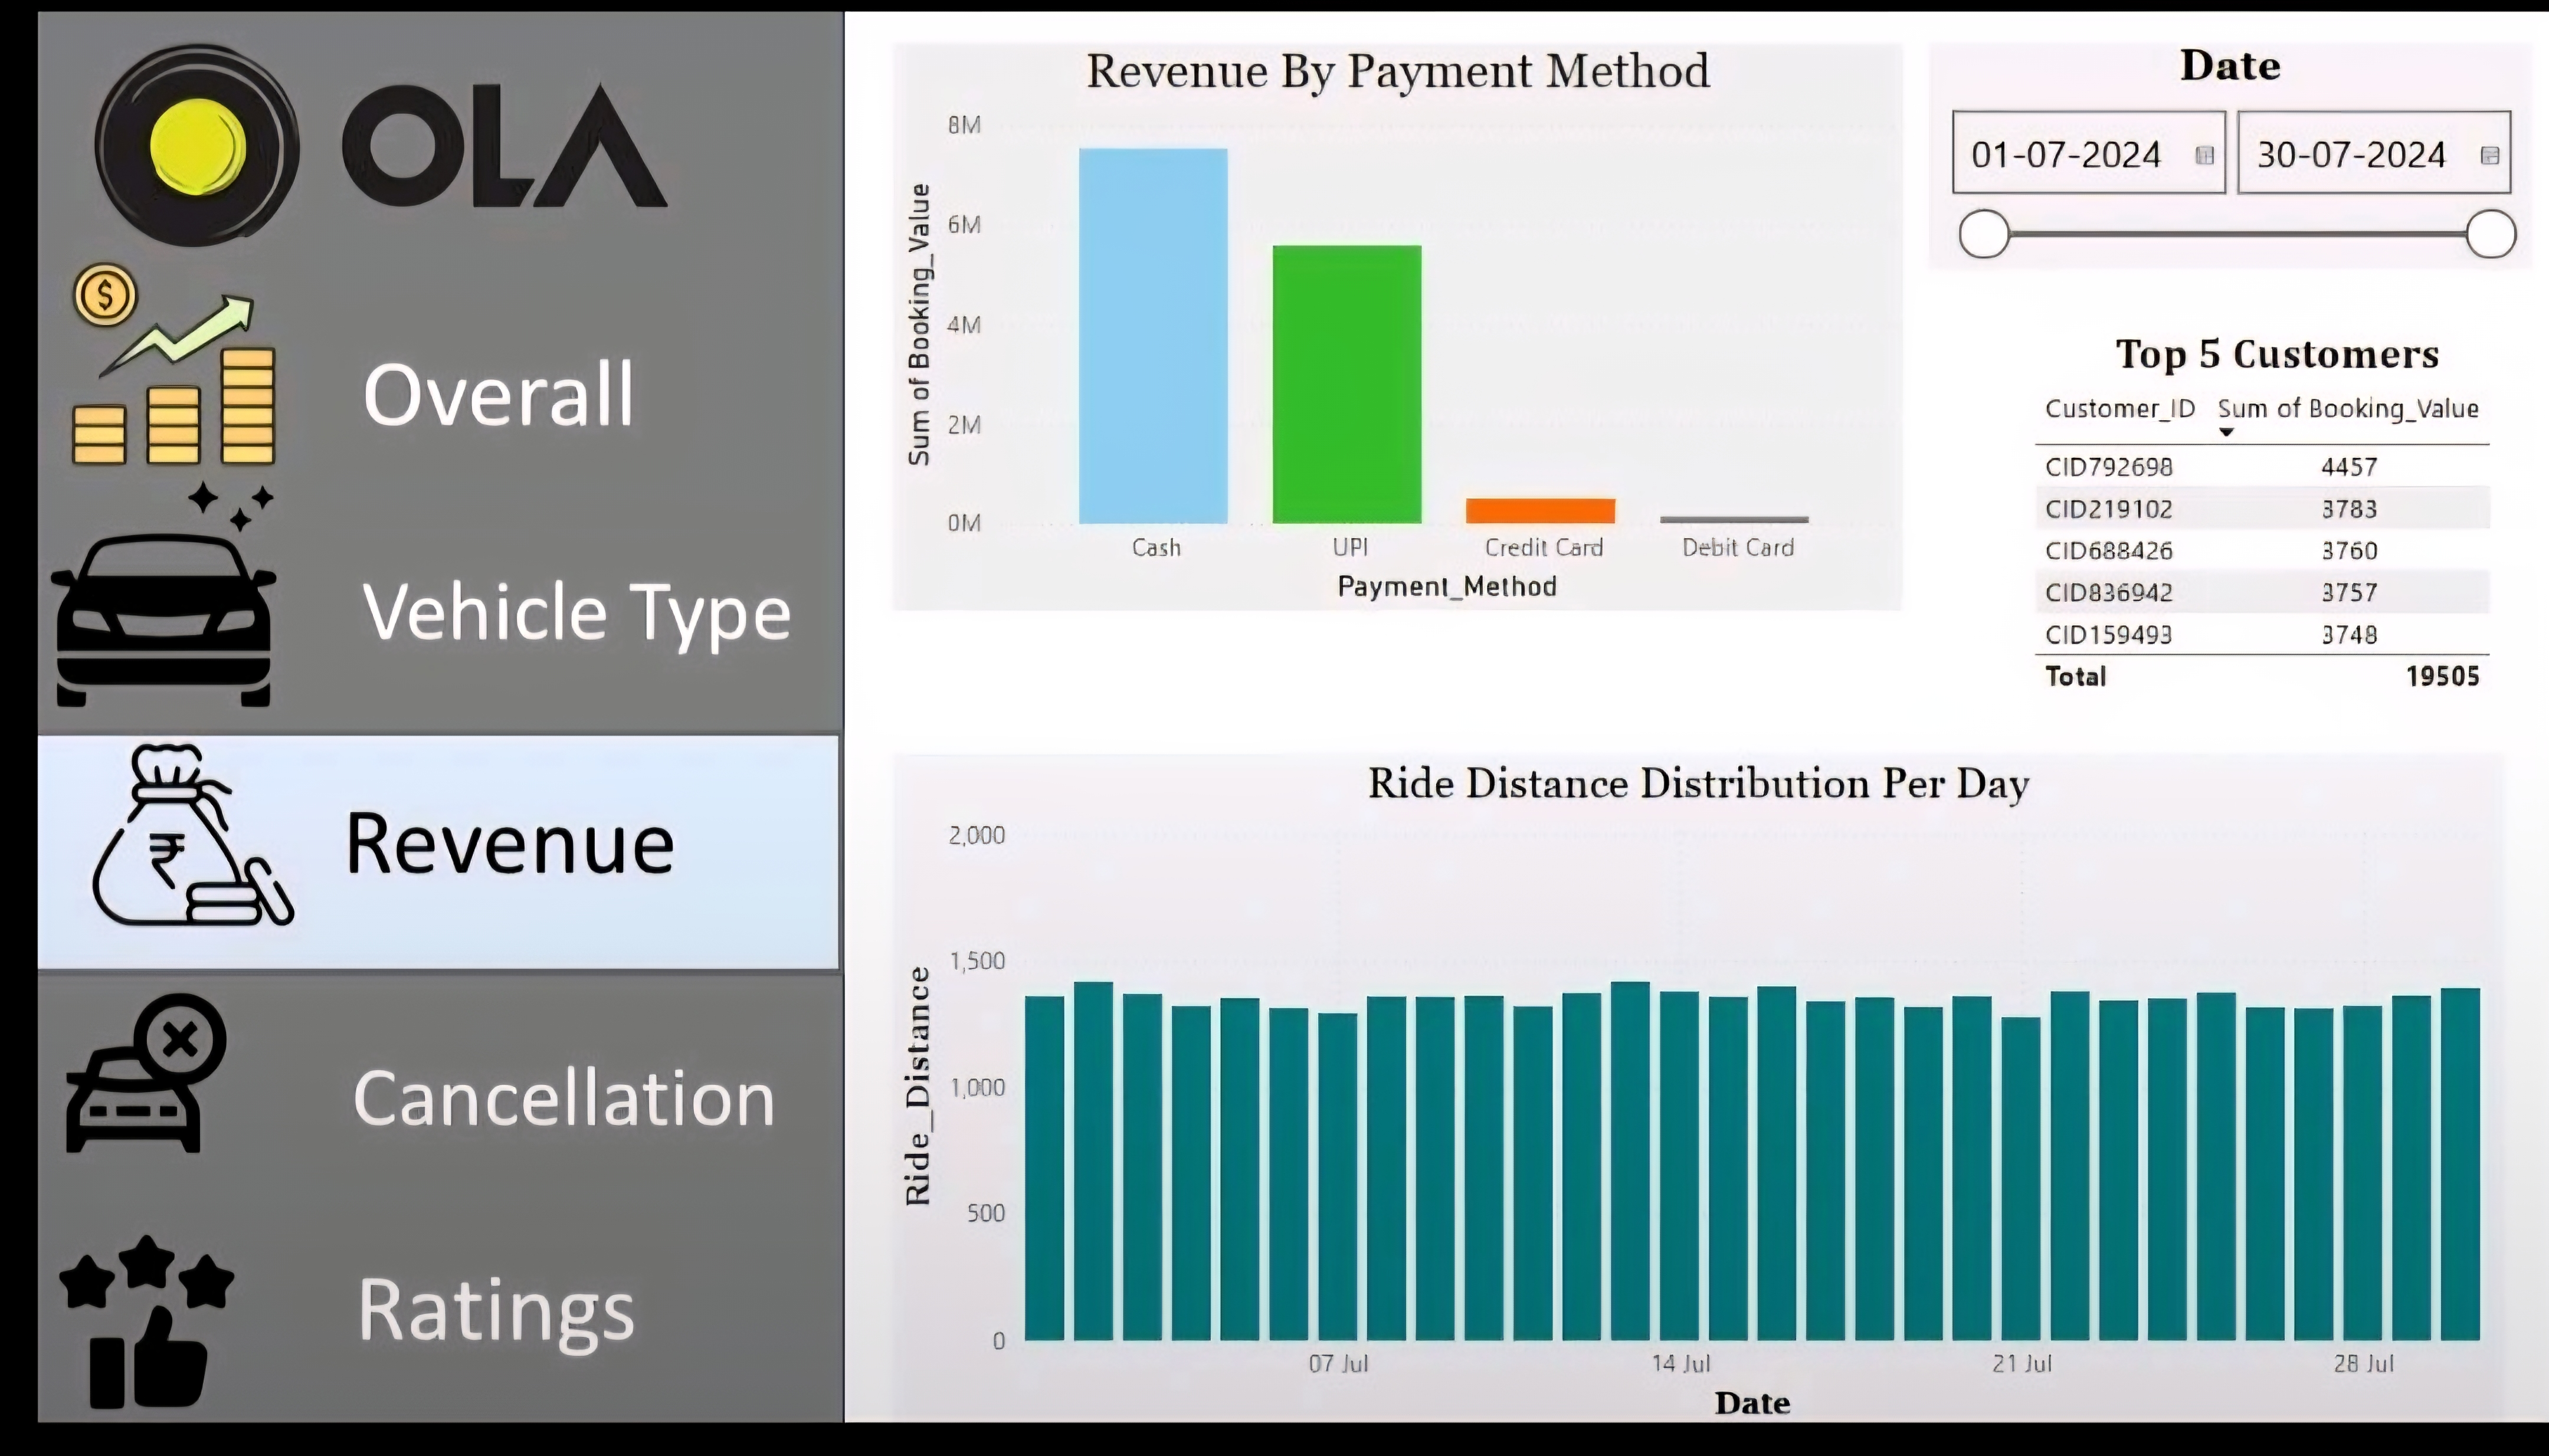

The dashboard page shown, as its layout file describes it:
{"tool":"powerbi","page":{"name":"Revenue","canvas":[1280,720],"ordinal":2},"visuals":[{"type":"actionButton","box":[0,359.5,420.9,122.7],"z":0},{"type":"actionButton","box":[0,240.5,417.2,119],"z":1000},{"type":"actionButton","box":[0,489.6,420.9,103.1],"z":2000},{"type":"actionButton","box":[0,609.8,420.9,100.6],"z":3000},{"type":"actionButton","box":[0,121.5,417.2,110.4],"z":4000},{"type":"columnChart","title":"Revenue By Payment Method","fields":{"Category":["July.Payment_Method"],"Y":["Sum(July.Booking_Value)"]},"box":[445.4,16,505.5,284.7],"z":5000},{"type":"columnChart","title":"Ride Distance Distribution Per Day","fields":{"Y":["Sum(July.Ride_Distance)"],"Category":["July.Date"]},"box":[445.4,371.8,806.1,338.7],"z":6000},{"type":"slicer","title":"Date","fields":{"Values":["July.Date"]},"box":[962,16,303.1,114.1],"z":7000},{"type":"tableEx","title":"Top 5 Customers","fields":{"Values":["July.Customer_ID","Sum(July.Booking_Value)"]},"box":[1007.4,158.3,272.4,201.2],"z":8000}]}

Visuals, with their boxes in screenshot pixels (x1, y1, x2, y2), scaled from the page's 1280x720 canvas onto the 2549x1456 screenshot:
actionButton: detection(0, 727, 838, 975)
actionButton: detection(0, 486, 831, 727)
actionButton: detection(0, 990, 838, 1199)
actionButton: detection(0, 1233, 838, 1437)
actionButton: detection(0, 245, 831, 469)
"Revenue By Payment Method" columnChart: detection(887, 32, 1893, 608)
"Ride Distance Distribution Per Day" columnChart: detection(887, 752, 2492, 1437)
"Date" slicer: detection(1916, 32, 2519, 263)
"Top 5 Customers" tableEx: detection(2006, 320, 2548, 727)
